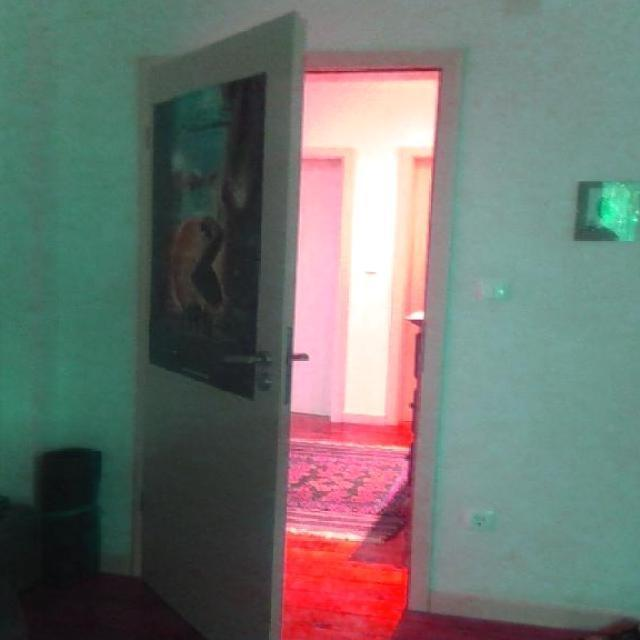door: (111, 9, 312, 640)
